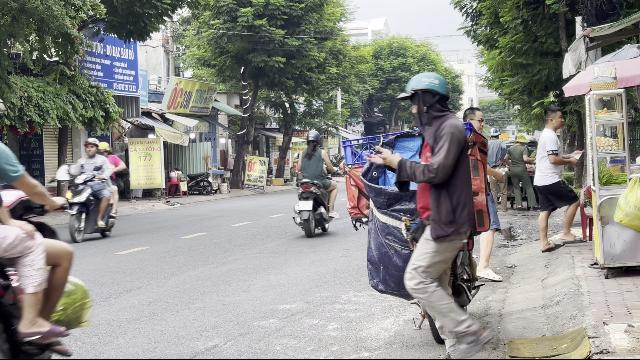helmet: (82, 136, 98, 156), (305, 129, 321, 147), (98, 140, 110, 154)
licenseplate: (298, 202, 312, 210)
motorcyclist: (60, 136, 120, 242), (292, 128, 338, 236)
